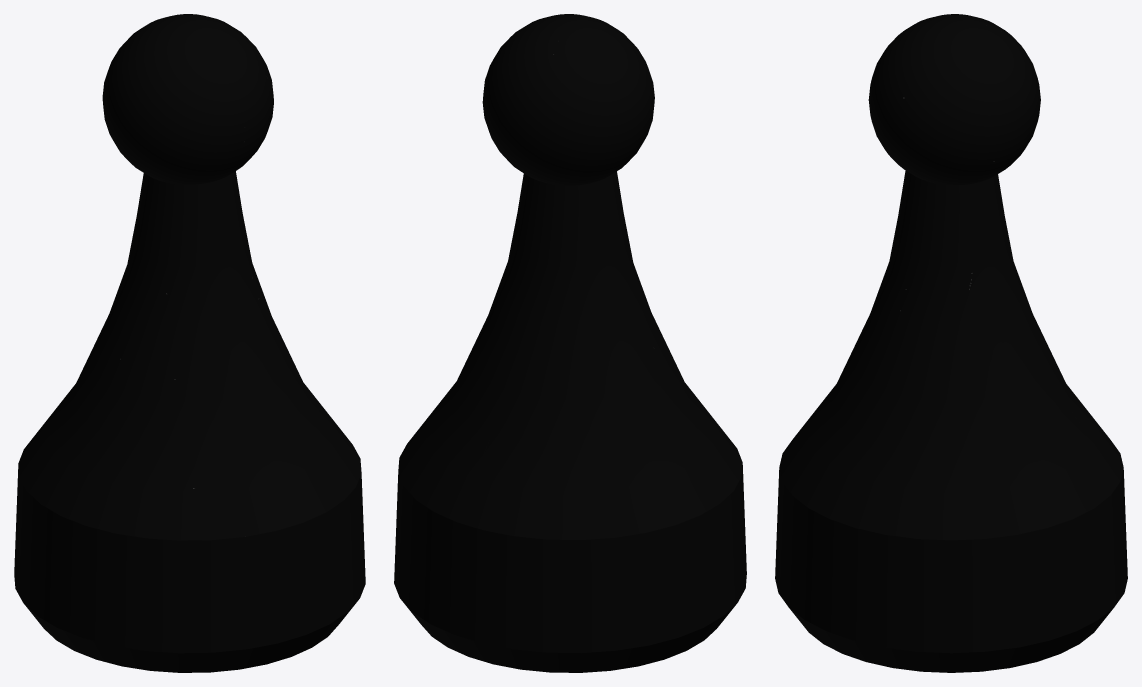
The model's file is PeãoMallnopolyTry2.fbx.
3 views of the same model, side by side, from view 1: azimuth 30°, elevation 25°; view 2: azimuth 150°, elevation 25°; view 3: azimuth 270°, elevation 25° (orthographic).
Visible parts, largest first — view 1: Pawn.002; view 2: Pawn.002; view 3: Pawn.002.
Boxes of the visible parts, x1,y1,x2,y2 form: Pawn.002: [14, 14, 365, 672]; Pawn.002: [394, 14, 746, 672]; Pawn.002: [775, 14, 1127, 672].
Bounding box in the file's own units: 81.94 × 150 × 81.94.
